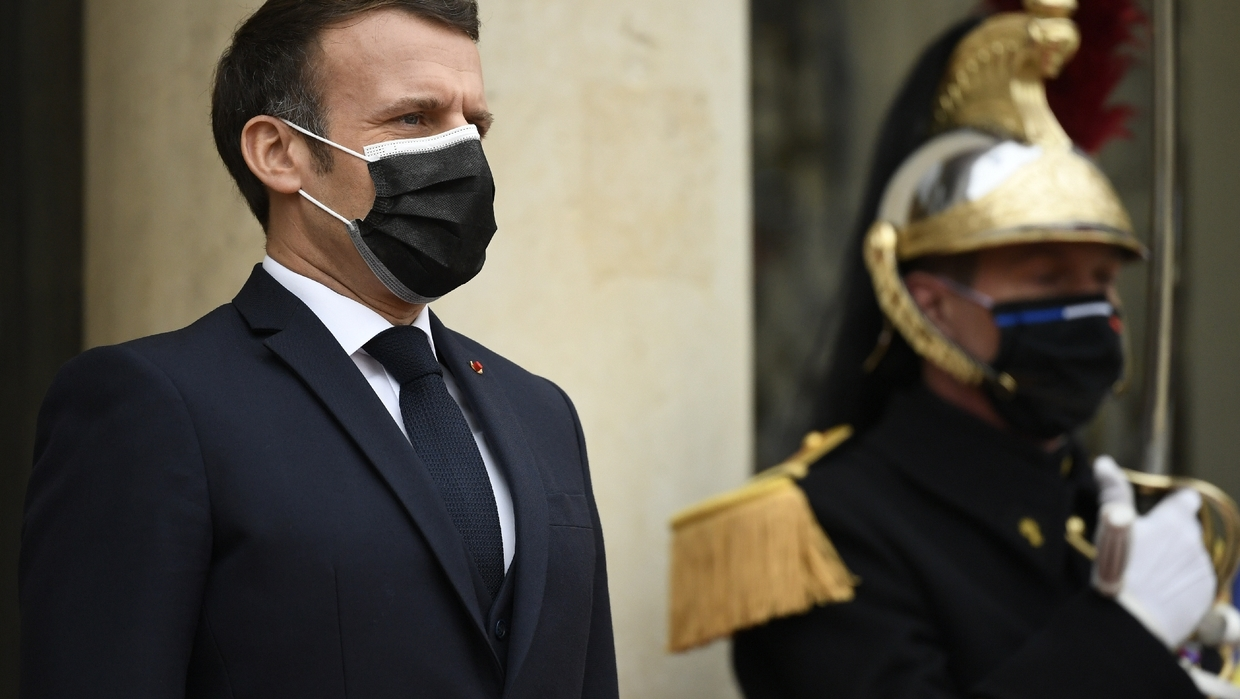with_mask: (287, 76, 504, 310), (932, 254, 1137, 428)
